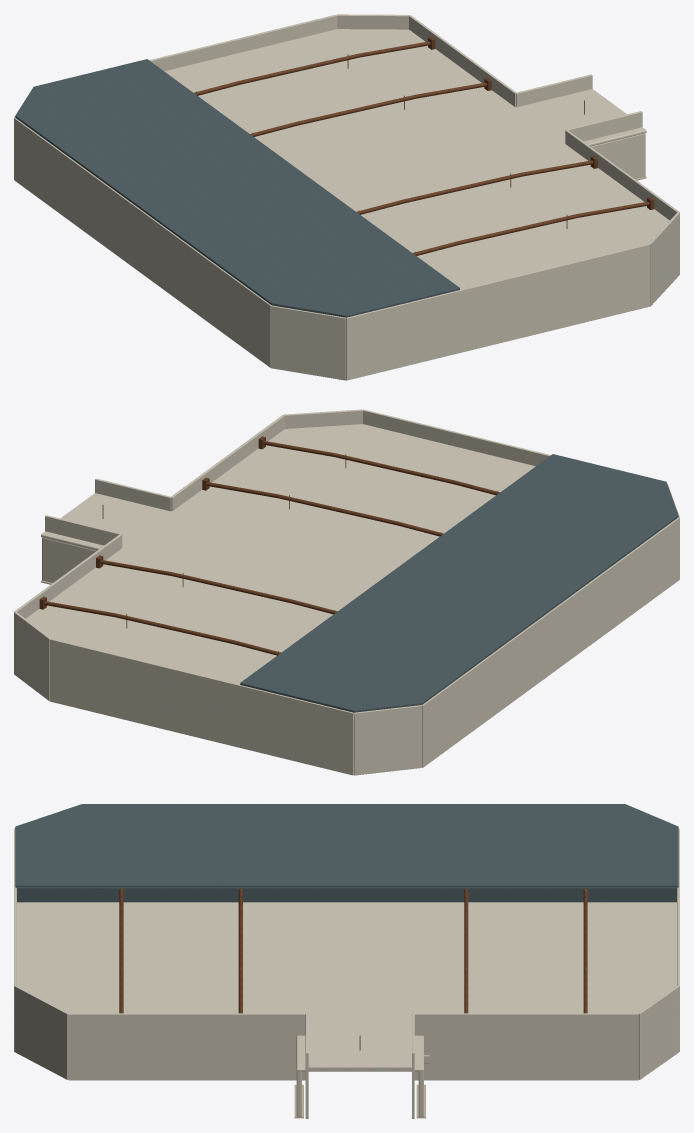
The model's file is section.glb.
The picture shows the model from 3 angles, top to bottom: view 1: azimuth 30°, elevation 25°; view 2: azimuth 150°, elevation 25°; view 3: azimuth 270°, elevation 25°; orthographic projection. The views are drawn at different scales.
Parts seen in each view (by area): view 1: Guest_ceiling, Staff_ceiling, Perimeter_7, Perimeter_5, Perimeter_6, Perimeter_3, Perimeter_8, Perimeter_9, Perimeter_1, Entry_pier_38.6, Perimeter_0, Perimeter_10 (+5 smaller); view 2: Guest_ceiling, Staff_ceiling, Perimeter_3, Perimeter_5, Perimeter_4, Perimeter_7, Perimeter_2, Perimeter_9, Perimeter_1, Entry_pier_29.4, Perimeter_8, Perimeter_10 (+5 smaller); view 3: Guest_ceiling, Staff_ceiling, Perimeter_9, Perimeter_1, Ceiling_step, Perimeter_8, Perimeter_2, Entry_lintel, Perimeter_3, Perimeter_7.
Part boxes in pixels (x1,y1,x2,y2): Guest_ceiling: (164, 29, 669, 289); Staff_ceiling: (15, 59, 459, 317); Perimeter_7: (346, 243, 650, 380); Perimeter_5: (14, 118, 271, 367); Perimeter_6: (271, 305, 346, 380); Perimeter_3: (149, 14, 337, 71); Perimeter_8: (649, 212, 679, 306); Perimeter_9: (565, 130, 679, 220); Perimeter_1: (409, 15, 516, 106); Entry_pier_38.6: (591, 133, 645, 178); Perimeter_0: (516, 74, 592, 107); Perimeter_10: (565, 111, 642, 141); Guest_ceiling: (26, 424, 535, 684); Staff_ceiling: (240, 454, 678, 712); Perimeter_3: (50, 638, 353, 775); Perimeter_5: (422, 517, 679, 767); Perimeter_4: (354, 705, 422, 775); Perimeter_7: (363, 409, 550, 465); Perimeter_2: (14, 612, 50, 701); Perimeter_9: (171, 415, 284, 510); Perimeter_1: (14, 534, 122, 618); Entry_pier_29.4: (42, 537, 96, 582); Perimeter_8: (284, 409, 362, 428); Perimeter_10: (95, 478, 171, 511); Guest_ceiling: (17, 902, 676, 1069); Staff_ceiling: (15, 804, 678, 887); Perimeter_9: (68, 1013, 307, 1080); Perimeter_1: (413, 1013, 638, 1080); Ceiling_step: (15, 887, 678, 902); Perimeter_8: (14, 985, 68, 1079); Perimeter_2: (638, 985, 679, 1079); Entry_lintel: (296, 1035, 423, 1071); Perimeter_3: (677, 829, 679, 1051); Perimeter_7: (14, 829, 16, 1051).
Bounding box in the file's own units: 44.11 × 5.7 × 50.22.
24 materials, 24 textured.
